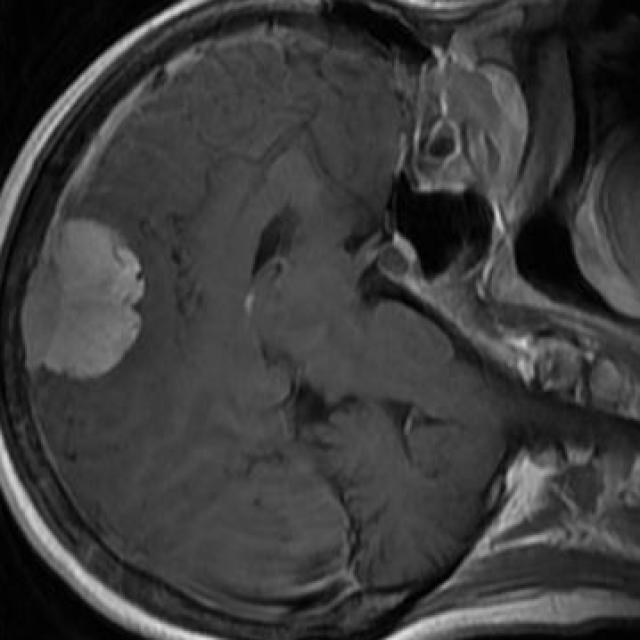meningioma: (32, 219, 144, 380)
